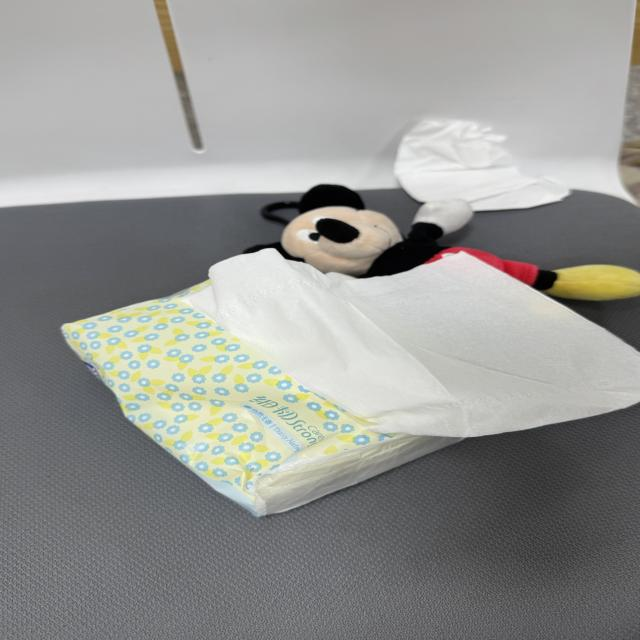mickey: (245, 185, 639, 300)
tissue: (64, 250, 639, 513), (395, 120, 569, 210)
